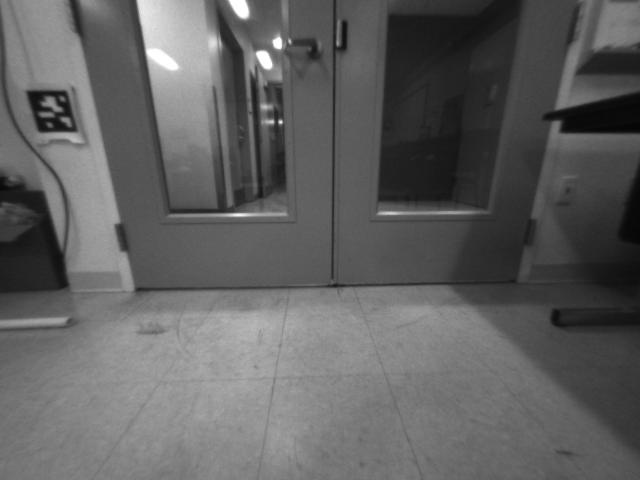door_handle: (272, 32, 323, 59)
